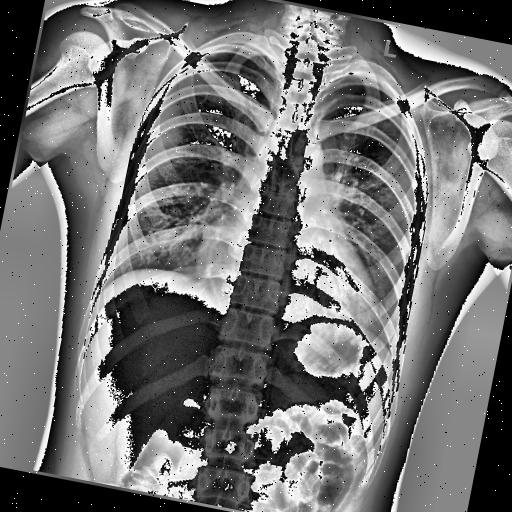3- Cardiomegaly: (186, 226, 384, 356), (187, 215, 390, 334), (188, 232, 382, 327)
